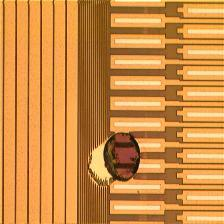PARTICLE: (86, 132, 144, 190)
